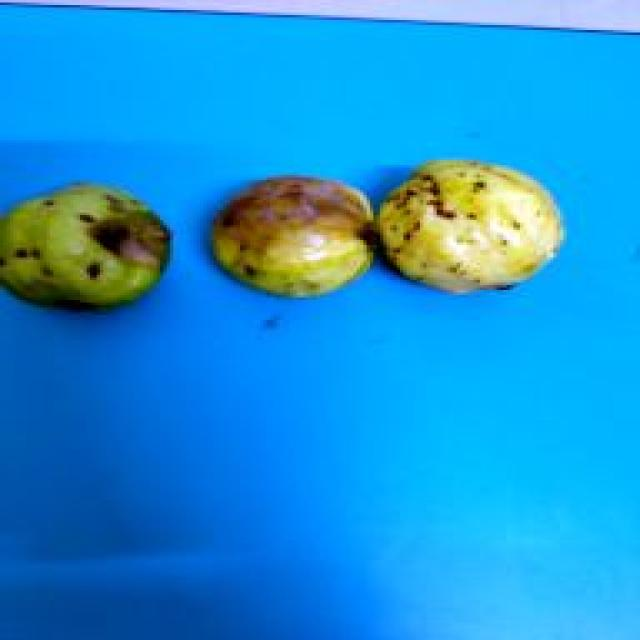Bad_Guava: (2, 184, 170, 306), (213, 178, 373, 297)
